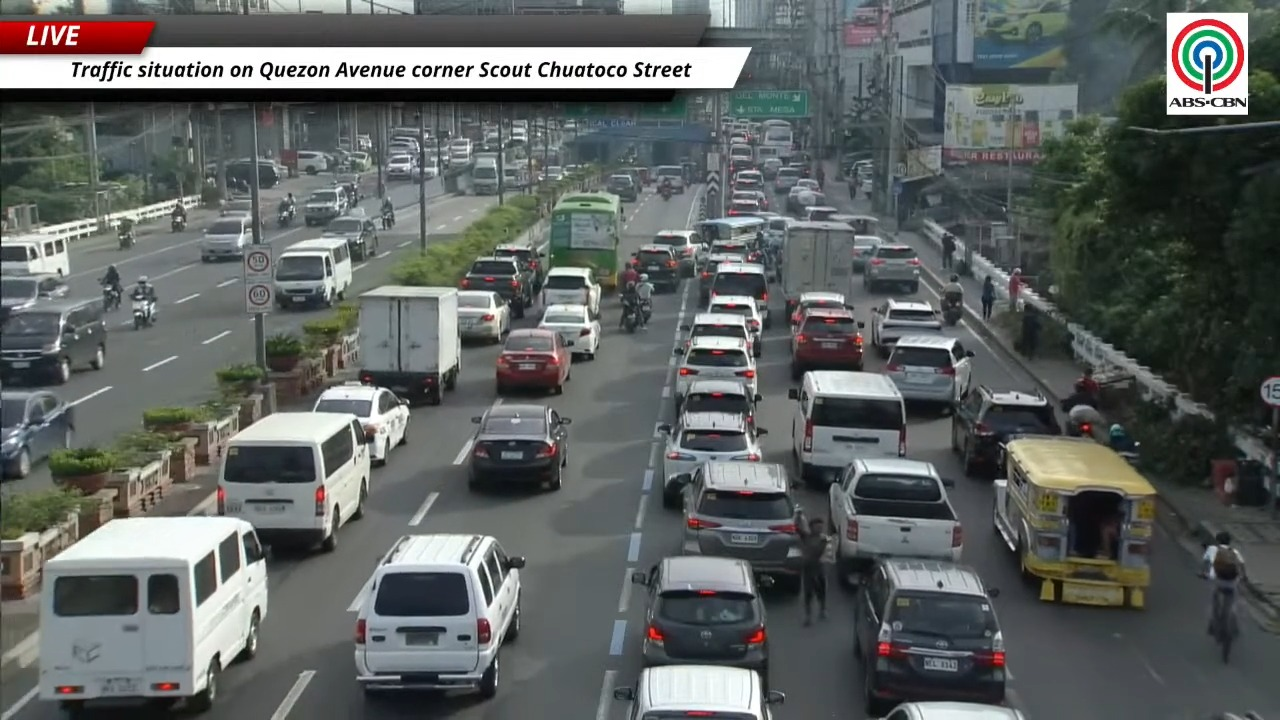bus: (549, 192, 622, 288)
car: (354, 534, 525, 698), (855, 558, 1006, 716), (632, 556, 768, 685), (668, 461, 800, 590), (658, 409, 766, 506), (951, 384, 1061, 474), (0, 297, 107, 386), (613, 664, 785, 719), (468, 404, 570, 490), (312, 381, 410, 465), (882, 335, 973, 408), (0, 390, 74, 478), (790, 307, 863, 380), (675, 336, 757, 397), (496, 328, 570, 395), (711, 253, 771, 329), (459, 256, 532, 318), (870, 298, 942, 356), (979, 0, 1067, 44), (678, 379, 761, 425), (675, 311, 758, 356), (538, 304, 601, 360), (706, 295, 762, 357), (0, 273, 67, 320), (541, 266, 601, 317), (863, 243, 920, 292), (457, 290, 510, 342), (322, 212, 378, 261), (698, 246, 745, 304), (492, 244, 545, 294), (789, 291, 850, 331), (651, 230, 704, 276), (632, 244, 680, 291), (302, 187, 347, 225), (853, 235, 884, 272), (787, 189, 827, 217), (605, 173, 638, 201), (710, 238, 750, 261), (296, 150, 330, 174), (655, 165, 684, 193), (730, 189, 767, 210), (774, 166, 800, 192), (219, 199, 252, 218), (734, 169, 763, 189), (805, 205, 838, 221), (728, 200, 761, 215), (761, 157, 782, 180), (797, 176, 820, 191)
motorcycle: (132, 298, 154, 329), (1113, 441, 1140, 466), (620, 302, 639, 332), (942, 297, 962, 325), (102, 284, 120, 311), (118, 230, 135, 249), (381, 211, 396, 230), (278, 209, 293, 227), (171, 215, 186, 232), (640, 300, 651, 323), (660, 186, 671, 200)
truck: (829, 458, 962, 576), (358, 285, 461, 404), (780, 221, 855, 316), (471, 156, 499, 195)
